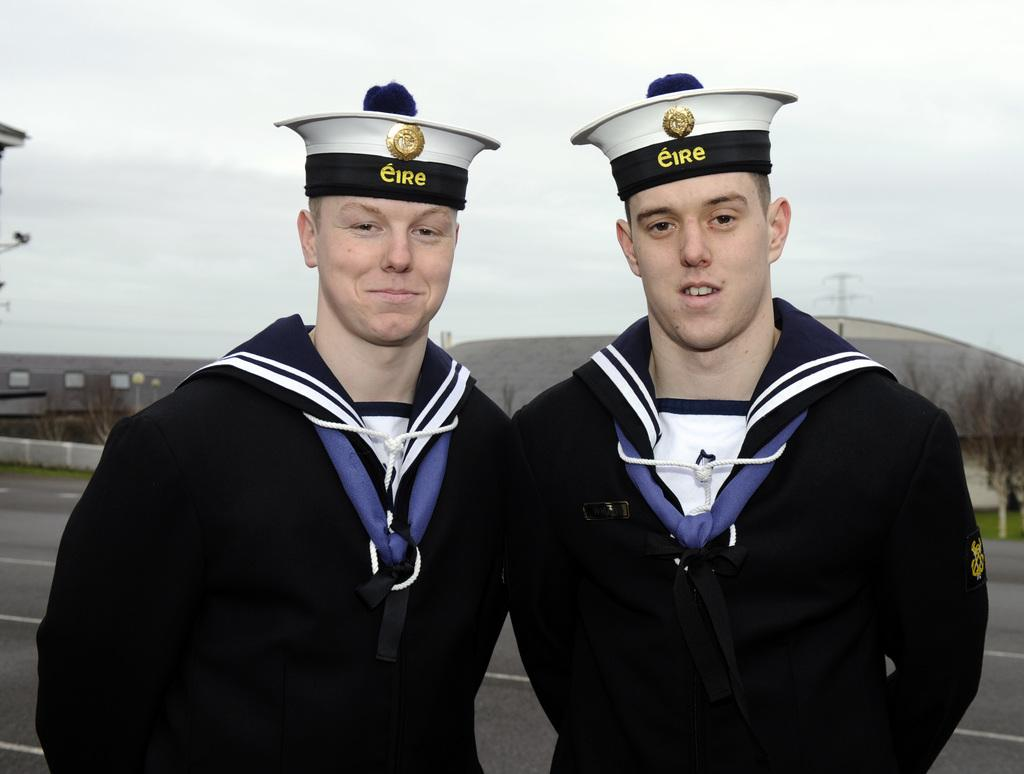Hat: (570, 73, 802, 204), (274, 82, 501, 213)
